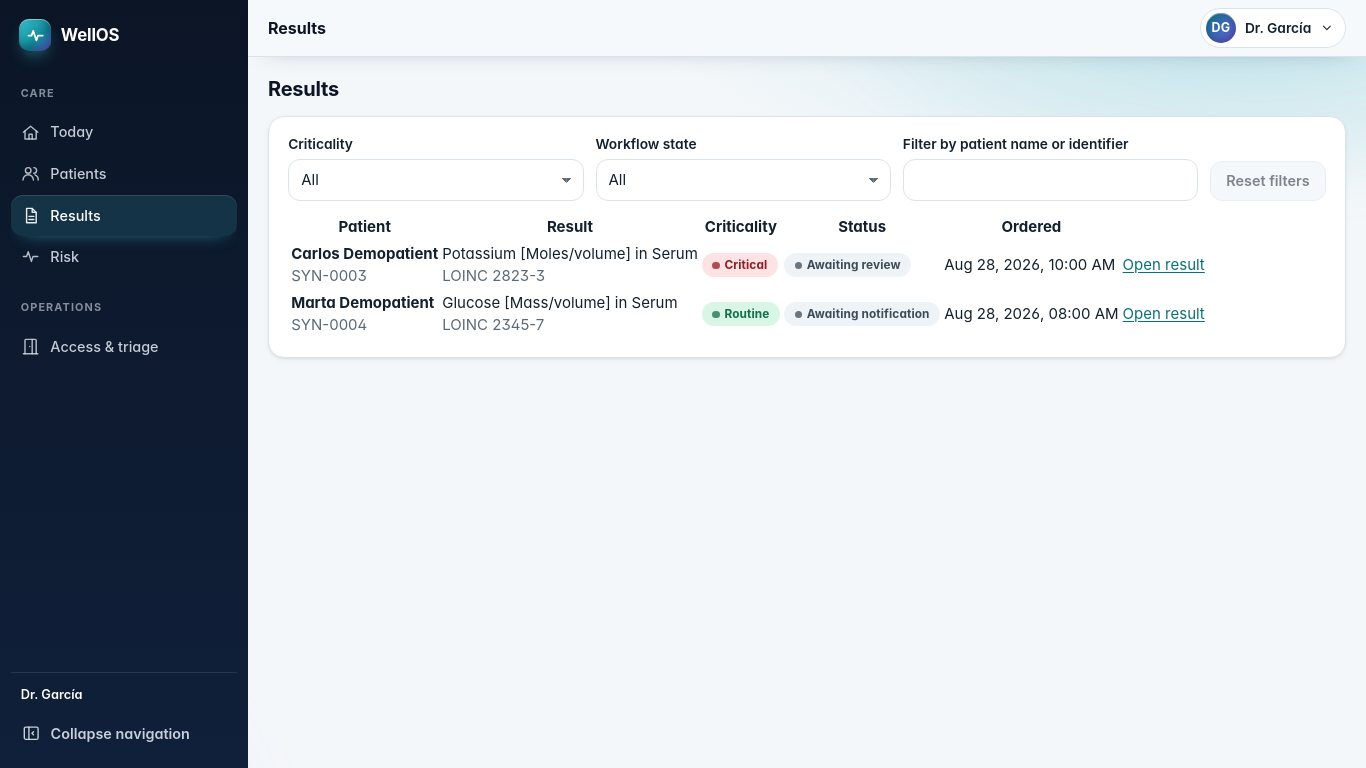
Test: results worklist › ignores a stale response after filters change
Step 1. Select "Critical only" in the dropdown labelled "Criticality" → (436, 180), box left=288, top=159, right=584, bottom=201
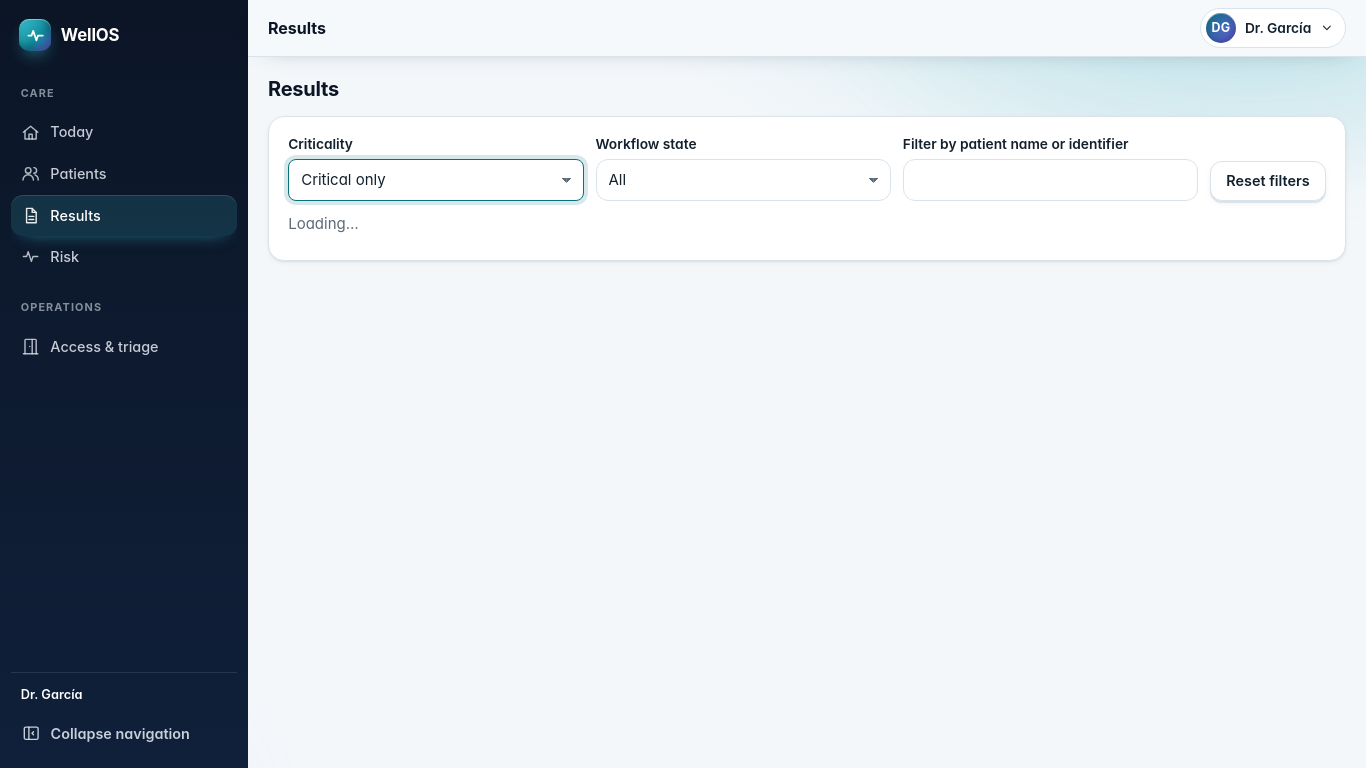
Step 2. Click the button "Reset filters" → (1268, 181), box left=1210, top=161, right=1326, bottom=201
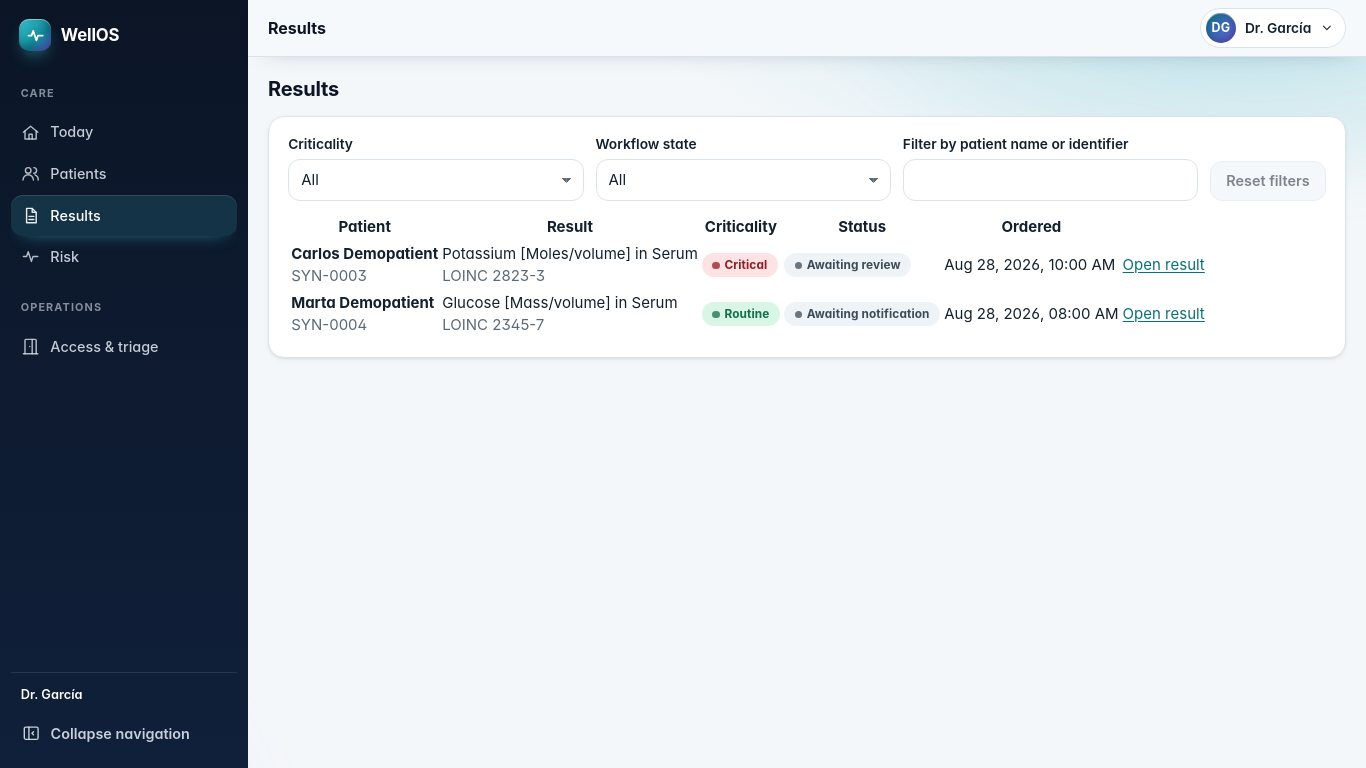
Check: the text "Marta Demopatient" is shown, box left=291, top=293, right=434, bottom=312
